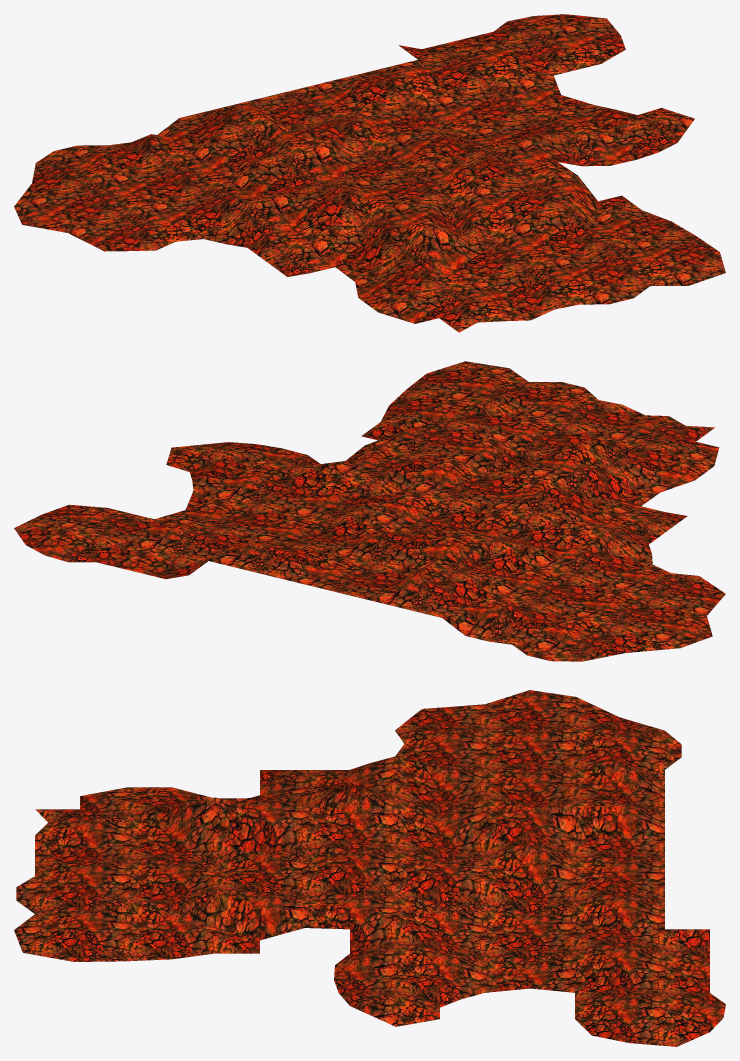
Rendered from FORGE_HOT_AND_COLD_COALPILES_FORGE_COALPILE_HOT.obj.
The picture shows the model from 3 angles, top to bottom: view 1: azimuth 30°, elevation 25°; view 2: azimuth 150°, elevation 25°; view 3: azimuth 270°, elevation 25°; orthographic projection. The views are drawn at different scales.
Parts seen in each view (by area): view 1: ge_coalpile_hot; view 2: ge_coalpile_hot; view 3: ge_coalpile_hot.
Boxes of the visible parts, left/top/right/bottom form: ge_coalpile_hot: left=14, top=14, right=725, bottom=332; ge_coalpile_hot: left=14, top=361, right=725, bottom=661; ge_coalpile_hot: left=14, top=690, right=725, bottom=1046.
Size of the model in its own units: 1503 by 89.45 by 1268.
